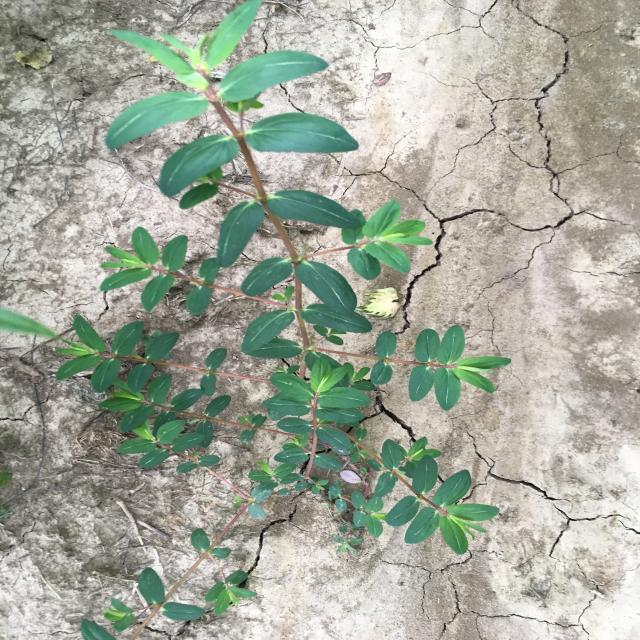SpottedSpurge: (51, 1, 512, 640)
